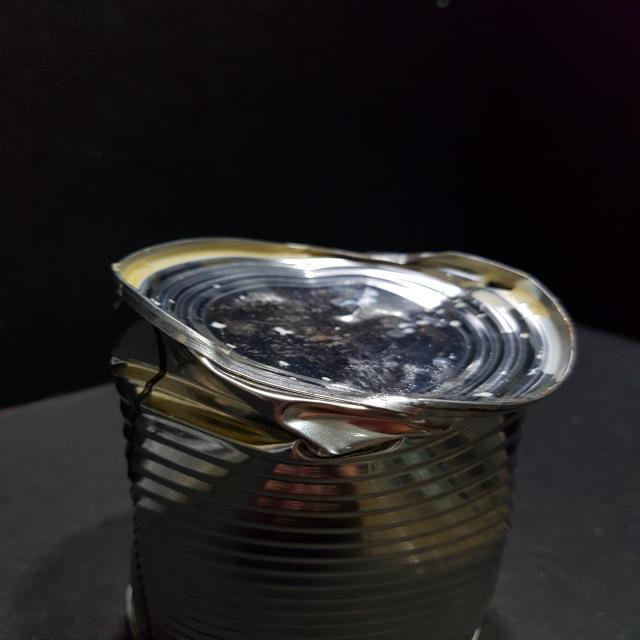metal-can: (101, 233, 583, 640)
